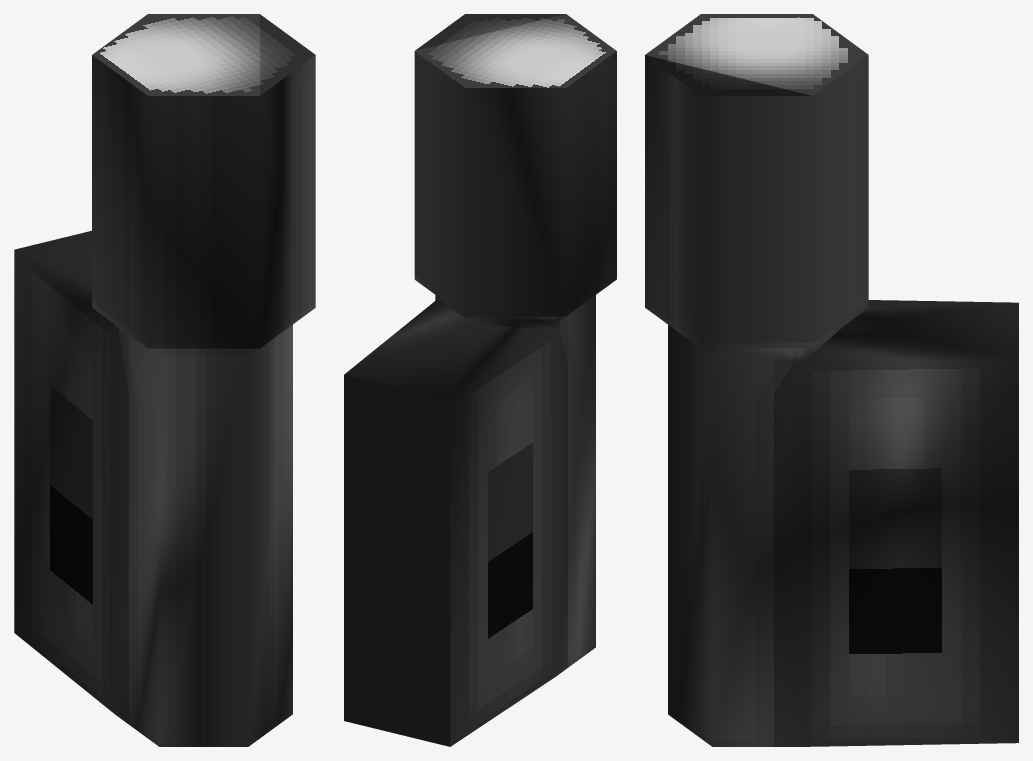
The model's file is Gunzlighter.fbx.
3 renders of one model, left to right at view 1: azimuth 30°, elevation 25°; view 2: azimuth 150°, elevation 25°; view 3: azimuth 270°, elevation 25°, orthographic. The views are drawn at different scales.
Parts seen in each view (by area): view 1: node_f4eec69a_0b81_4d37_be84_935efd5d2038_mesh0; view 2: node_f4eec69a_0b81_4d37_be84_935efd5d2038_mesh0; view 3: node_f4eec69a_0b81_4d37_be84_935efd5d2038_mesh0.
Boxes of the visible parts, <box> form: node_f4eec69a_0b81_4d37_be84_935efd5d2038_mesh0: <box>14,14,315,746</box>; node_f4eec69a_0b81_4d37_be84_935efd5d2038_mesh0: <box>344,14,616,746</box>; node_f4eec69a_0b81_4d37_be84_935efd5d2038_mesh0: <box>645,14,1018,746</box>.
Bounding box in the file's own units: 0.0202 × 0.0757 × 0.0389.
